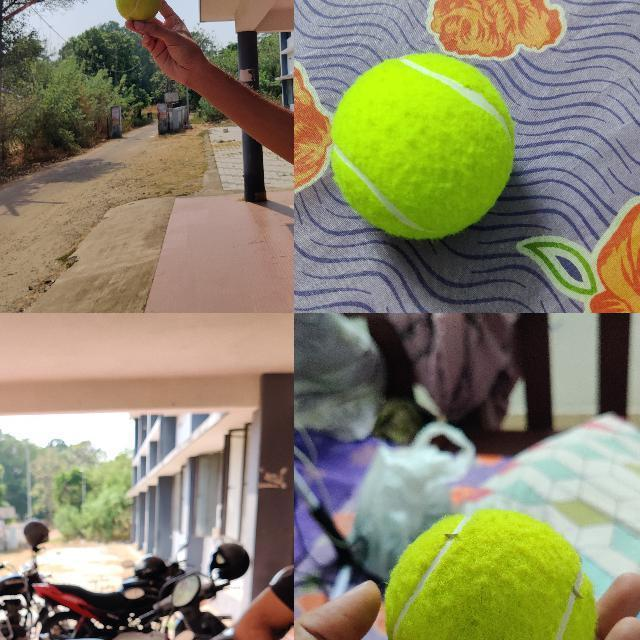tennis-ball: (329, 51, 516, 239), (381, 507, 600, 639), (115, 0, 161, 20)
